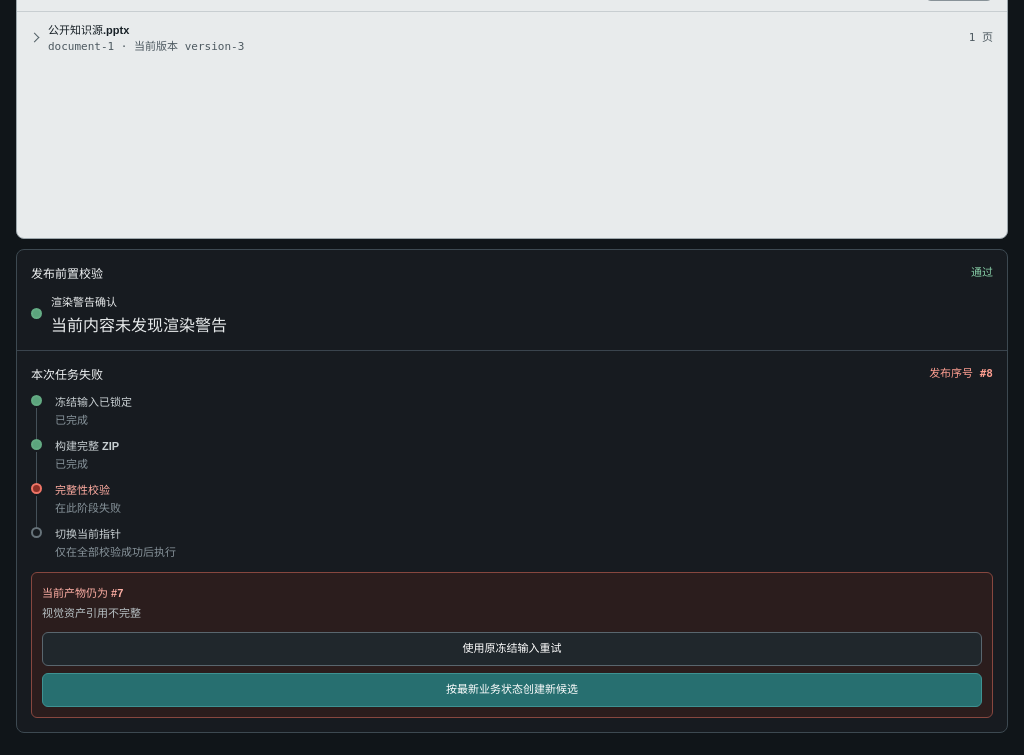
冻结发布台账 › 失败后可按最新业务状态创建新候选，并保留失败回执
(page scrolled)
Expected: the heading "本次任务失败" is shown, [31, 365, 103, 382]
Step 1. Click the button "按最新业务状态创建新候选" → (512, 690), box [42, 673, 982, 707]
(page scrolled)
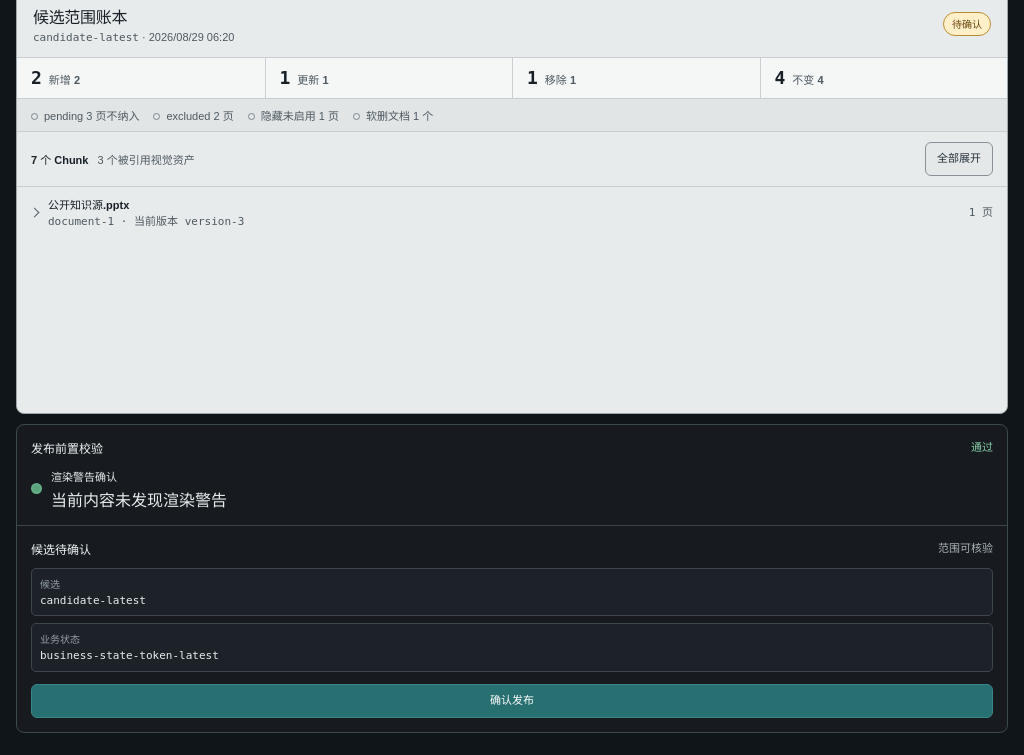
Expected: the text "candidate-latest" is shown 2 times, [33, 31, 139, 44]; [40, 594, 146, 607]
Expected: the text "视觉资产引用不完整" is gone
